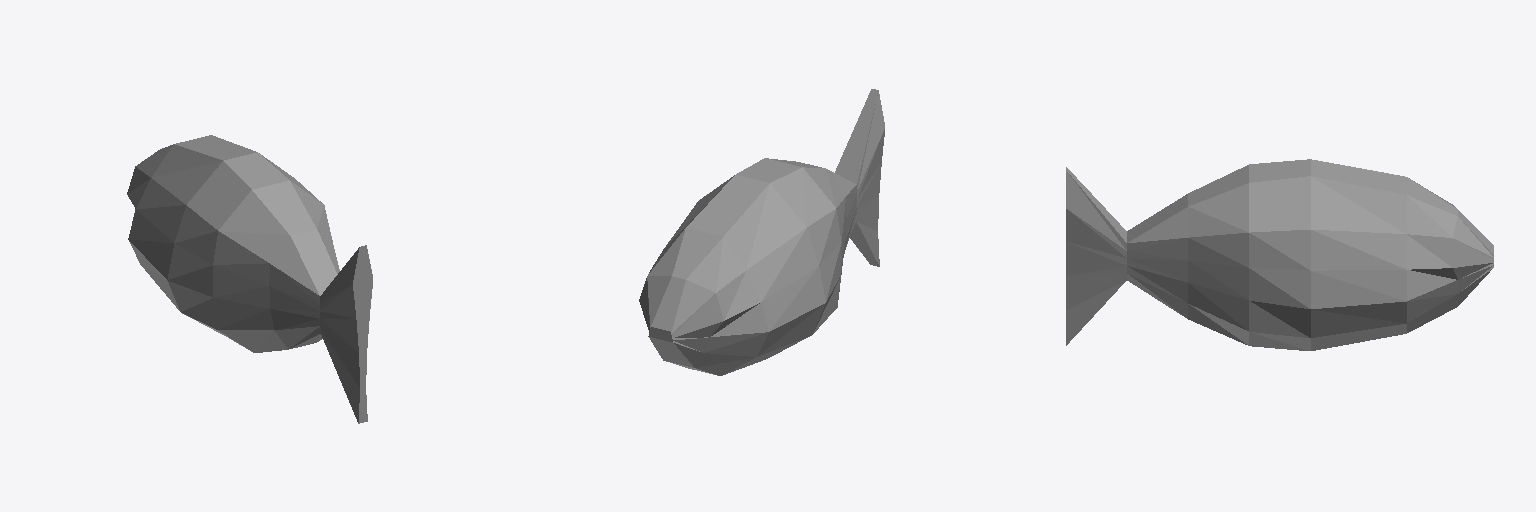
File: fish.obj
The picture shows the model from 3 angles: view 1: azimuth 30°, elevation 25°; view 2: azimuth 150°, elevation 25°; view 3: azimuth 270°, elevation 25°; orthographic projection.
Parts seen in each view (by area): view 1: Fish_Cube; view 2: Fish_Cube; view 3: Fish_Cube.
Boxes of the visible parts, x1=… form: Fish_Cube: x1=127, y1=135, x2=372, y2=423; Fish_Cube: x1=639, y1=89, x2=884, y2=375; Fish_Cube: x1=1066, y1=159, x2=1493, y2=350.
Bounding box in the file's own units: 1.17 × 1.34 × 2.95.